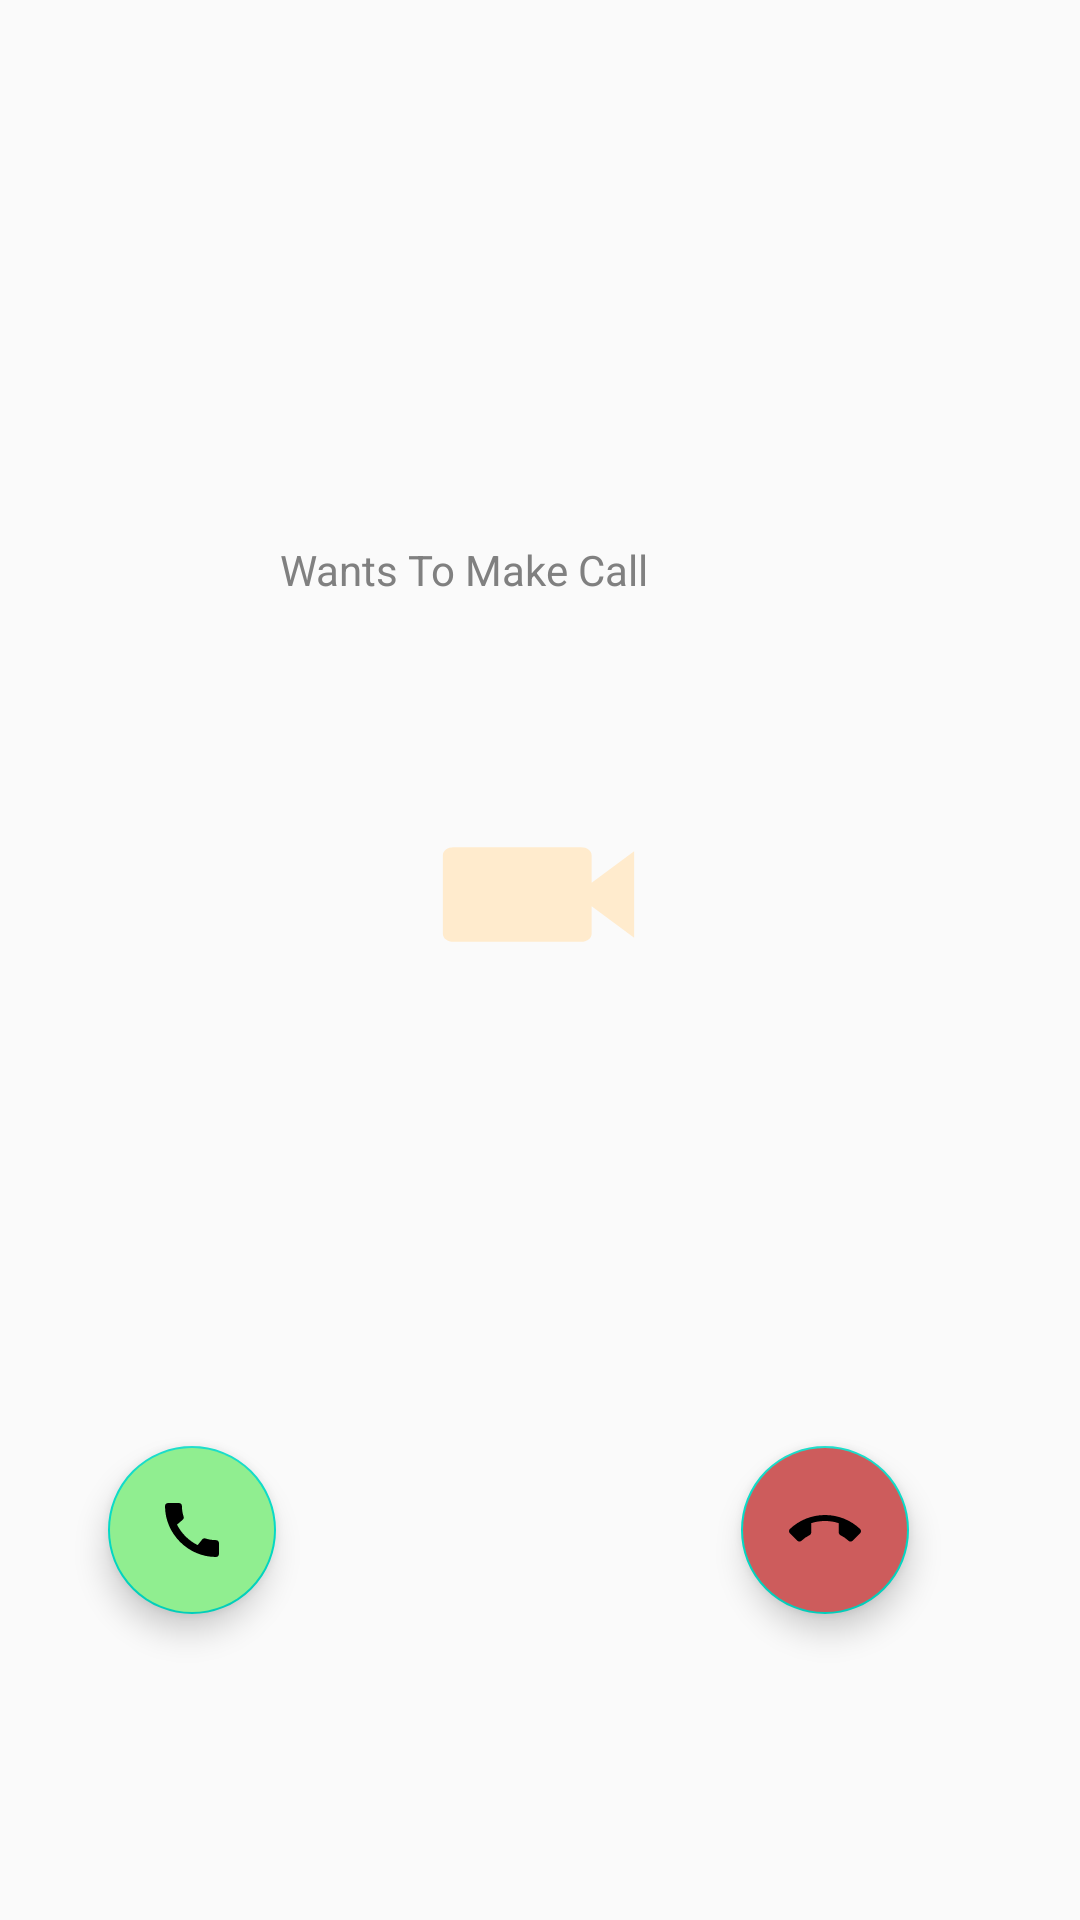

Where icons sit on this 1080×1920 app screen, as (x1, y1, x2, y2):
call: (108, 1446, 276, 1614)
call end: (741, 1446, 909, 1614)
video cam: (443, 847, 634, 942)
